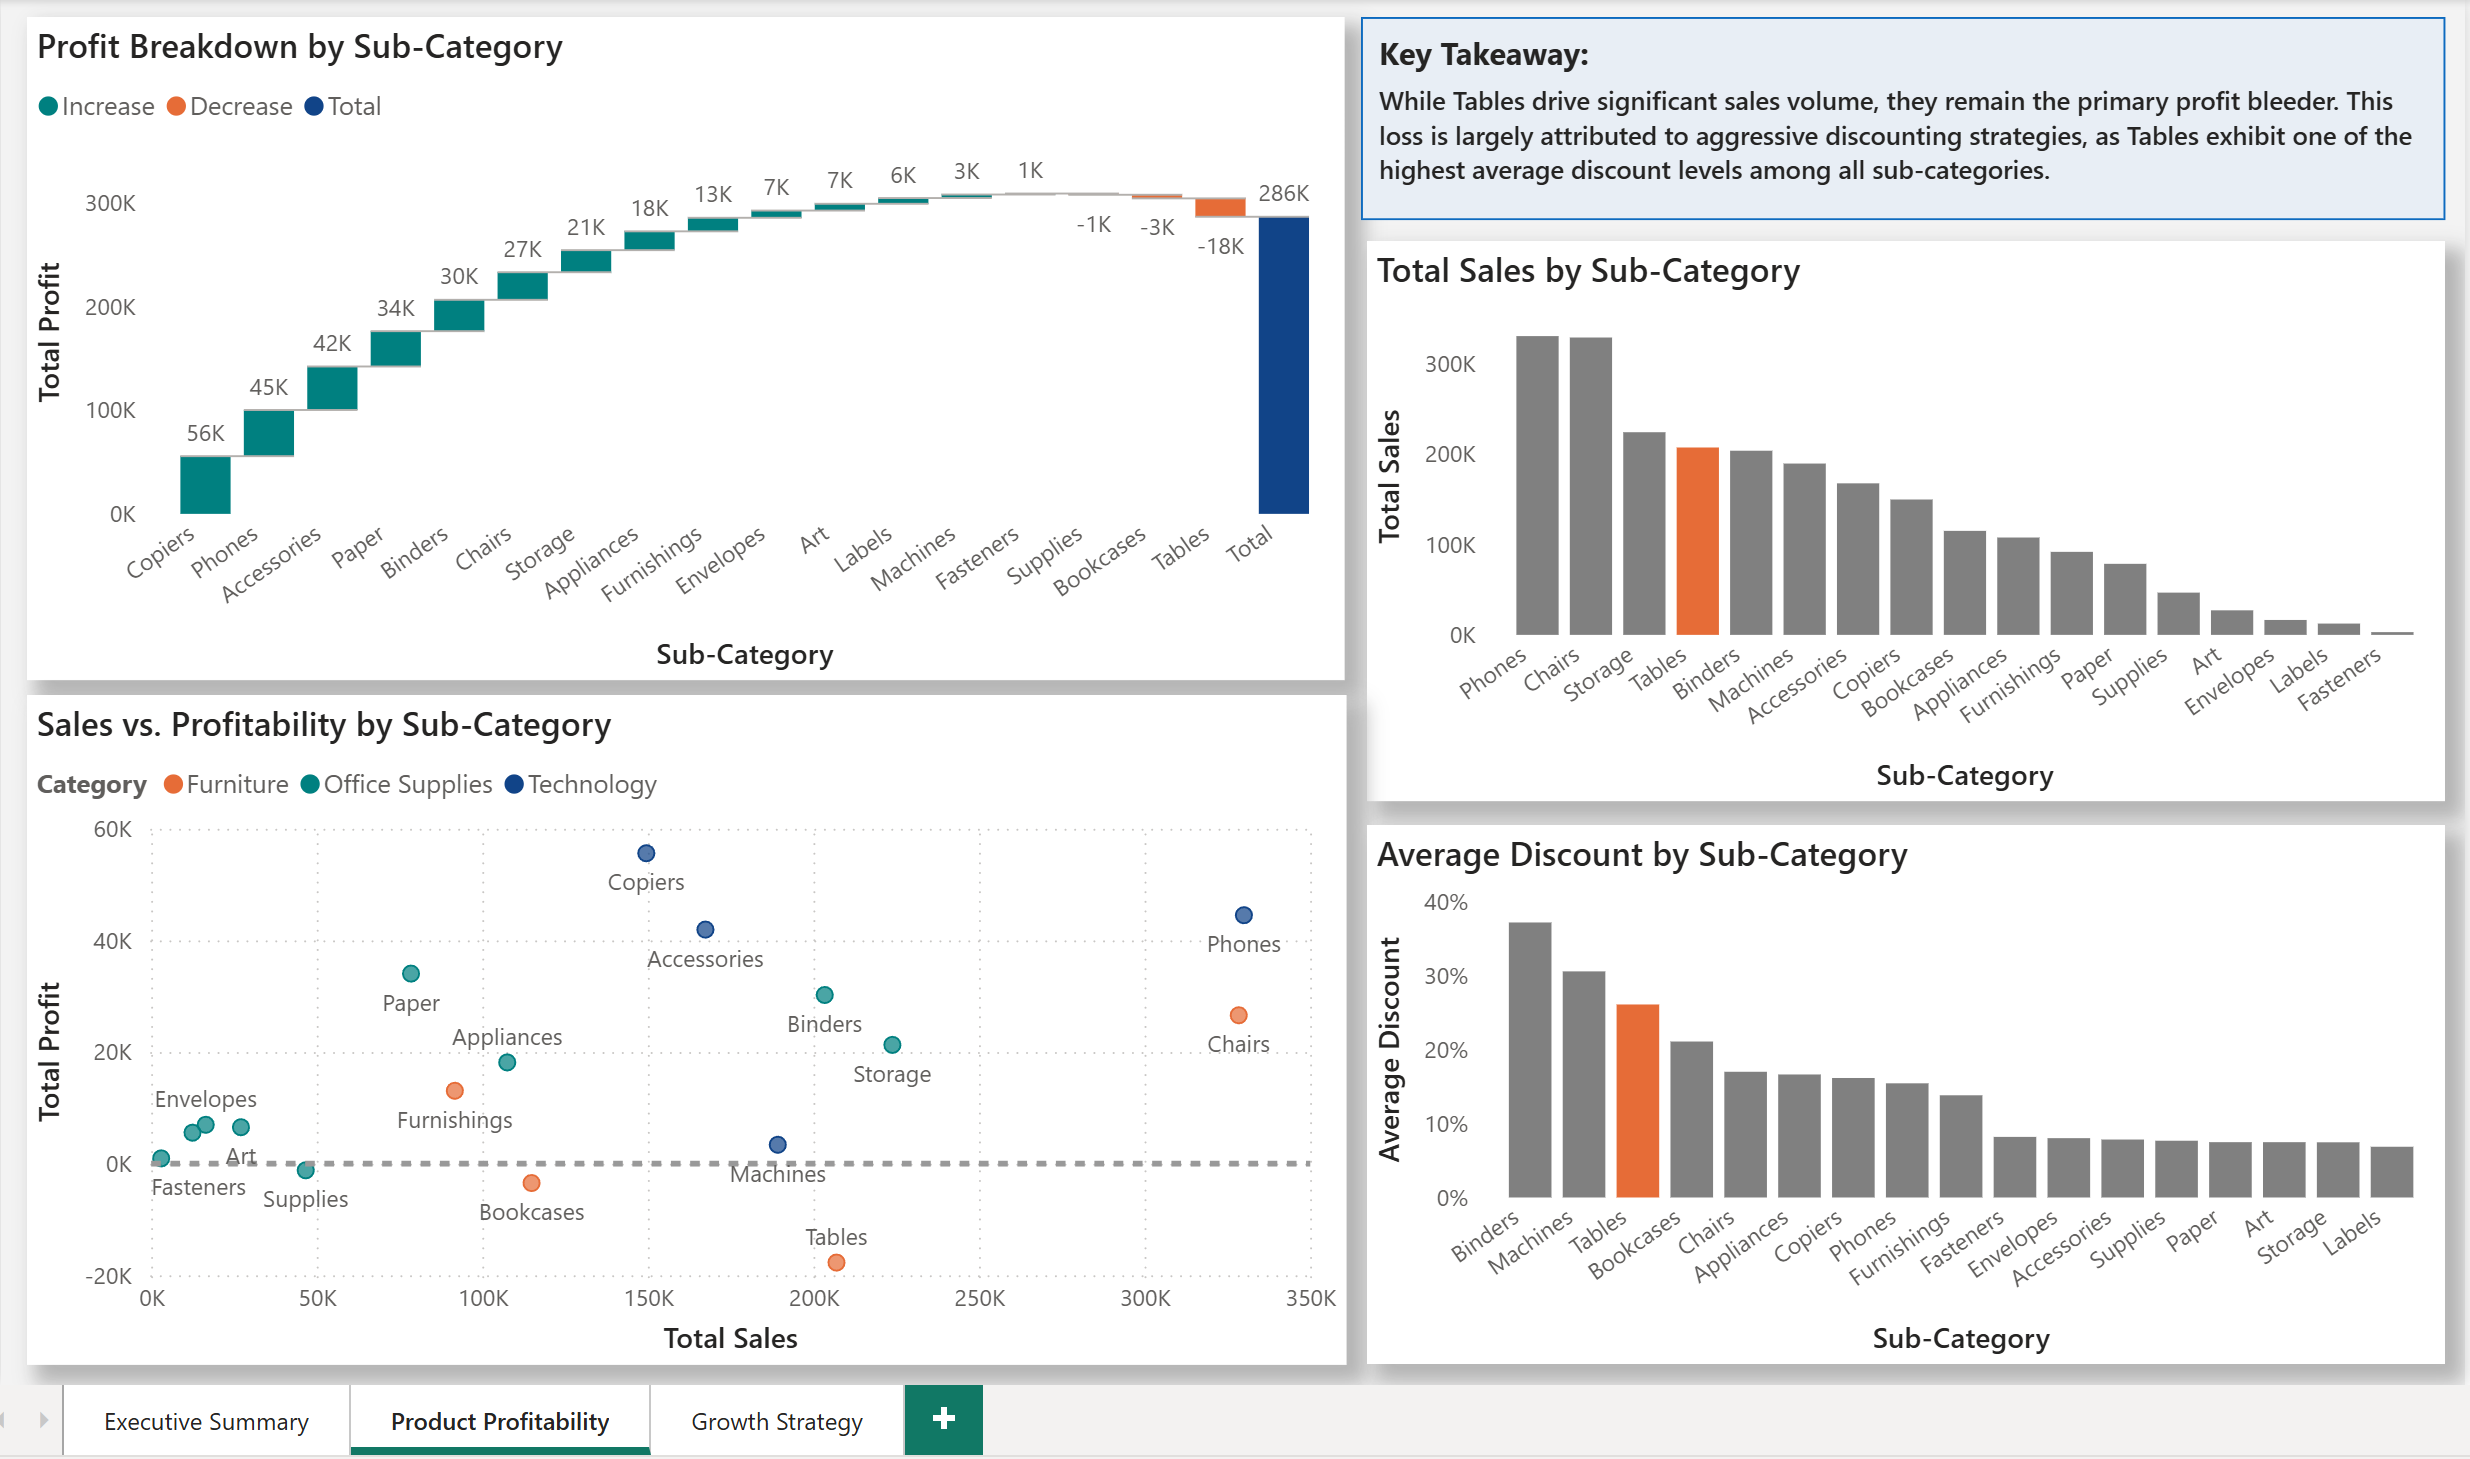

What the dashboard file says about the page in this screenshot:
{"tool":"powerbi","page":{"name":"Product Profitability","canvas":[1280,720],"ordinal":1},"visuals":[{"type":"waterfallChart","title":"Profit Breakdown by Sub-Category","fields":{"Category":["Orders.Sub-Category"],"Y":["Sum(Orders.Profit)"]},"box":[13.3,8.9,684.4,344.4],"z":0},{"type":"columnChart","fields":{"Category":["Orders.Sub-Category"],"Y":["#Measures.Total Sales"]},"box":[710,125.6,560,291.1],"z":1000},{"type":"shape","box":[706.7,8.9,563.3,105.6],"z":2000},{"type":"shape","title":"Key Takeaway:","box":[715.6,16.7,543.3,88.9],"z":3000},{"type":"scatterChart","title":"Sales vs. Profitability by Sub-Category","fields":{"X":["#Measures.Total Sales"],"Y":["#Measures.Total Profit"],"Series":["Orders.Category"],"Category":["Orders.Sub-Category"]},"box":[13.3,361.1,685.6,347.8],"z":4000},{"type":"columnChart","fields":{"Category":["Orders.Sub-Category"],"Y":["#Measures.Average Discount"]},"box":[710,428.9,560,280],"z":5000}]}

Visuals, with their boxes in screenshot pixels (x1, y1, x2, y2):
"Profit Breakdown by Sub-Category" waterfallChart: rect(45, 23, 1347, 679)
columnChart - Orders.Sub-Category x #Measures.Total Sales: rect(1370, 245, 2436, 799)
shape: rect(1364, 23, 2436, 224)
"Key Takeaway:" shape: rect(1381, 38, 2415, 207)
"Sales vs. Profitability by Sub-Category" scatterChart: rect(45, 694, 1349, 1355)
columnChart - Orders.Sub-Category x #Measures.Average Discount: rect(1370, 823, 2436, 1355)
